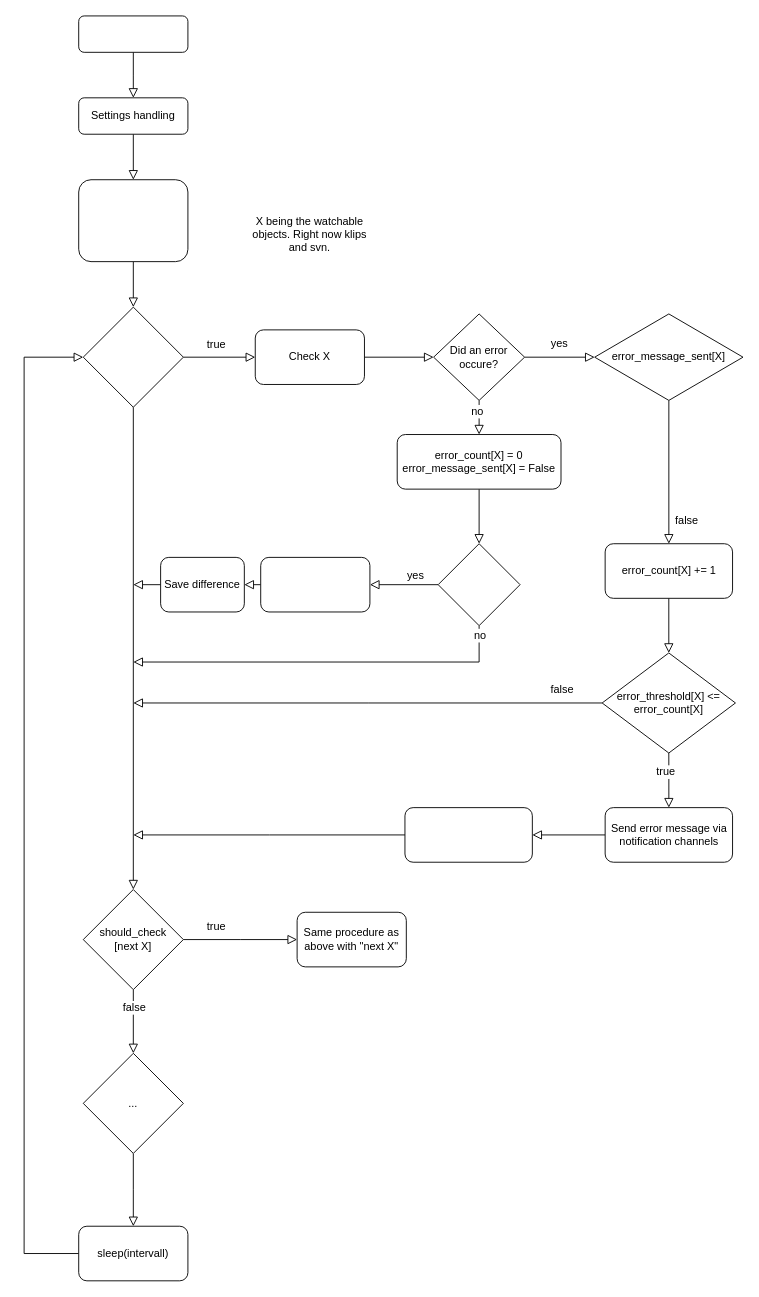
Some shapes in this 759 by 1297 pixel diagram are drawn without their labels. The shapes that lost their labels are listed below. From the top down, each one's centre as x and y in pixels, then its label:
At (x=133, y=33): "lea.py starts".
At (x=133, y=220): "Enter needed passwords and missing emails/usernames".
At (x=132, y=356): "should_check[X]".
At (x=315, y=584): "Send diff-message via notificaton channels".
At (x=478, y=584): "Is there a difference?".
At (x=468, y=834): "error_message_sent[X] = True".
